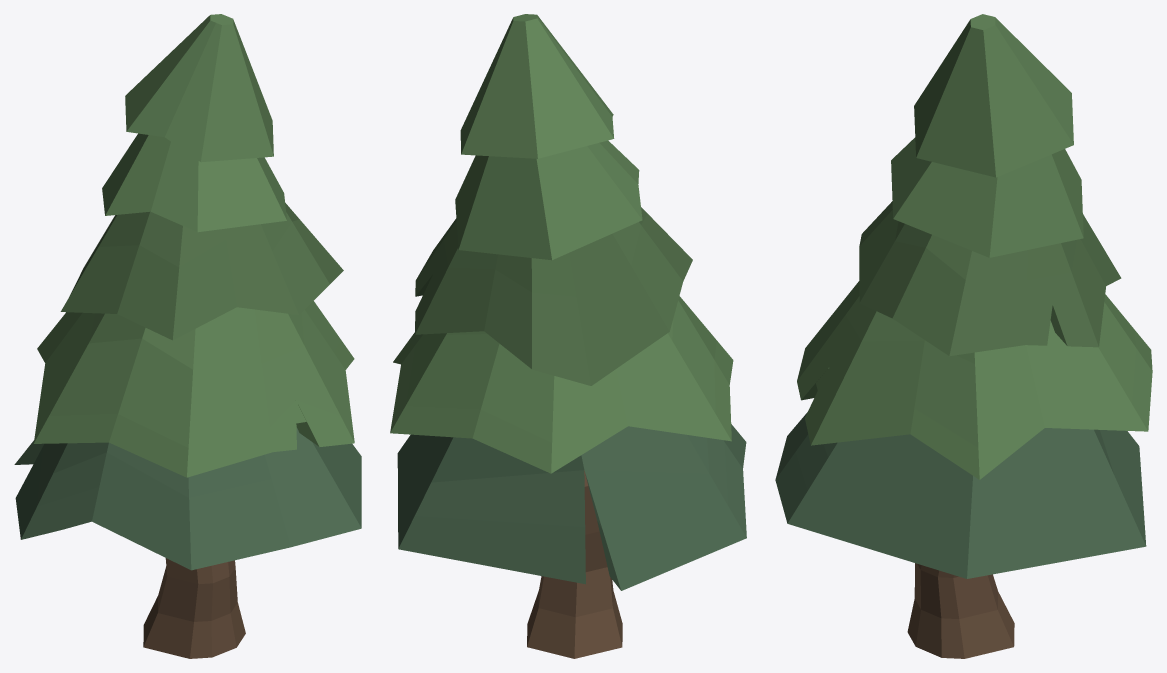
Rendered from tree2.glb.
3 renders of one model, left to right at view 1: azimuth 30°, elevation 25°; view 2: azimuth 150°, elevation 25°; view 3: azimuth 270°, elevation 25°, orthographic. The views are drawn at different scales.
Parts seen in each view (by area): view 1: Cylinder.002, Cylinder.001, Cylinder.003, Cylinder.004, Cylinder.005, Cylinder; view 2: Cylinder.001, Cylinder.002, Cylinder.003, Cylinder.005, Cylinder.004, Cylinder; view 3: Cylinder.001, Cylinder.002, Cylinder.003, Cylinder.004, Cylinder.005, Cylinder.
Boxes of the visible parts, box(x1,y1,x2,y2) form: Cylinder.002: box(33, 301, 354, 477); Cylinder.001: box(14, 427, 361, 570); Cylinder.003: box(60, 203, 343, 340); Cylinder.004: box(125, 14, 273, 162); Cylinder.005: box(102, 133, 286, 232); Cylinder: box(143, 558, 245, 658); Cylinder.001: box(397, 424, 746, 590); Cylinder.002: box(390, 296, 733, 473); Cylinder.003: box(415, 207, 692, 385); Cylinder.005: box(455, 140, 642, 260); Cylinder.004: box(460, 14, 614, 158); Cylinder: box(527, 470, 622, 658); Cylinder.001: box(775, 412, 1146, 578); Cylinder.002: box(797, 281, 1152, 479); Cylinder.003: box(859, 201, 1121, 356); Cylinder.004: box(914, 14, 1073, 177); Cylinder.005: box(891, 137, 1083, 257); Cylinder: box(907, 563, 1014, 658).
Size of the model in its own units: 2.88 by 4.86 by 2.62.
